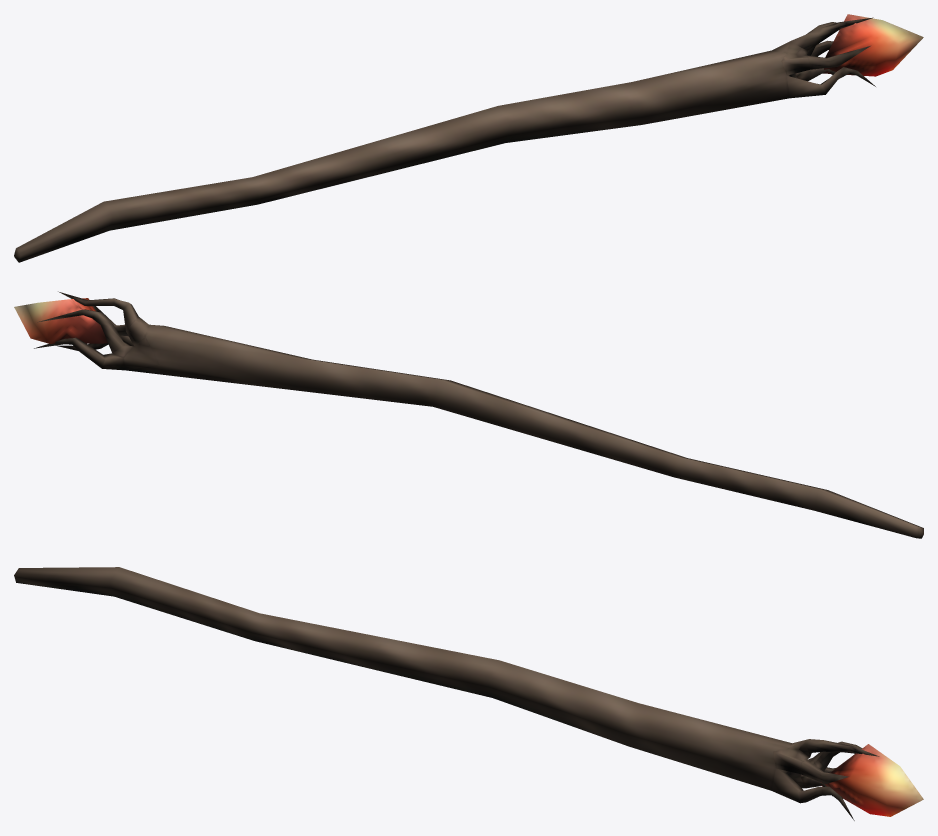
The model's file is Staff 2.fbx.
3 renders of one model, top to bottom at view 1: azimuth 30°, elevation 25°; view 2: azimuth 150°, elevation 25°; view 3: azimuth 330°, elevation 25°, orthographic.
Parts seen in each view (by area): view 1: Staff2; view 2: Staff2; view 3: Staff2.
Boxes of the visible parts, box(x1,y1,x2,y2) form: Staff2: box(14, 14, 923, 262); Staff2: box(14, 291, 923, 538); Staff2: box(14, 567, 923, 820).
Bounding box in the file's own units: 2.39 × 0.1558 × 0.1556.
